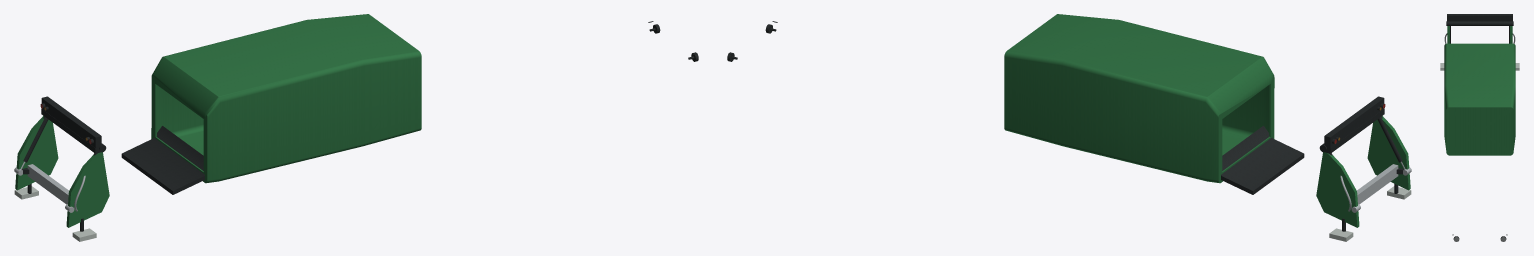
File: rear_compactor.glb
3 views of the same model, side by side, from view 1: azimuth 30°, elevation 25°; view 2: azimuth 150°, elevation 25°; view 3: azimuth 270°, elevation 25° (orthographic). The views are drawn at different scales.
Visible parts, largest first — view 1: Refuse shaped hollow container with open rear throat, Finite sloping rear loading hopper floor, Rear hopper seated side cheek -1, Rear hopper seated side cheek 1, Rear lamp seated mounting transom, Rear packer blade finite leading edge, Rear seated transverse bumper; view 2: Refuse shaped hollow container with open rear throat, Finite sloping rear loading hopper floor, Rear hopper seated side cheek 1, Rear hopper seated side cheek -1, Rear lamp seated mounting transom, Rear packer blade finite leading edge, Rear seated transverse bumper; view 3: Refuse shaped hollow container with open rear throat, Rear lamp seated mounting transom, Compactor full width upper hinge.
Boxes of the visible parts, x1,y1,x2,y2 form: Refuse shaped hollow container with open rear throat: (151, 14, 421, 183); Finite sloping rear loading hopper floor: (121, 126, 204, 194); Rear hopper seated side cheek -1: (66, 152, 109, 227); Rear hopper seated side cheek 1: (15, 116, 58, 190); Rear lamp seated mounting transom: (41, 96, 101, 151); Rear packer blade finite leading edge: (27, 164, 68, 204); Rear seated transverse bumper: (41, 108, 100, 153); Refuse shaped hollow container with open rear throat: (1004, 14, 1274, 183); Finite sloping rear loading hopper floor: (1221, 126, 1304, 194); Rear hopper seated side cheek 1: (1316, 152, 1359, 227); Rear hopper seated side cheek -1: (1367, 116, 1410, 190); Rear lamp seated mounting transom: (1324, 96, 1384, 151); Rear packer blade finite leading edge: (1357, 164, 1398, 204); Rear seated transverse bumper: (1325, 108, 1384, 153); Refuse shaped hollow container with open rear throat: (1444, 43, 1515, 155); Rear lamp seated mounting transom: (1447, 14, 1512, 21); Compactor full width upper hinge: (1446, 21, 1513, 25).
Bounding box in the file's own units: 15.61 × 2.54 × 2.76.
8 materials, 8 textured.
